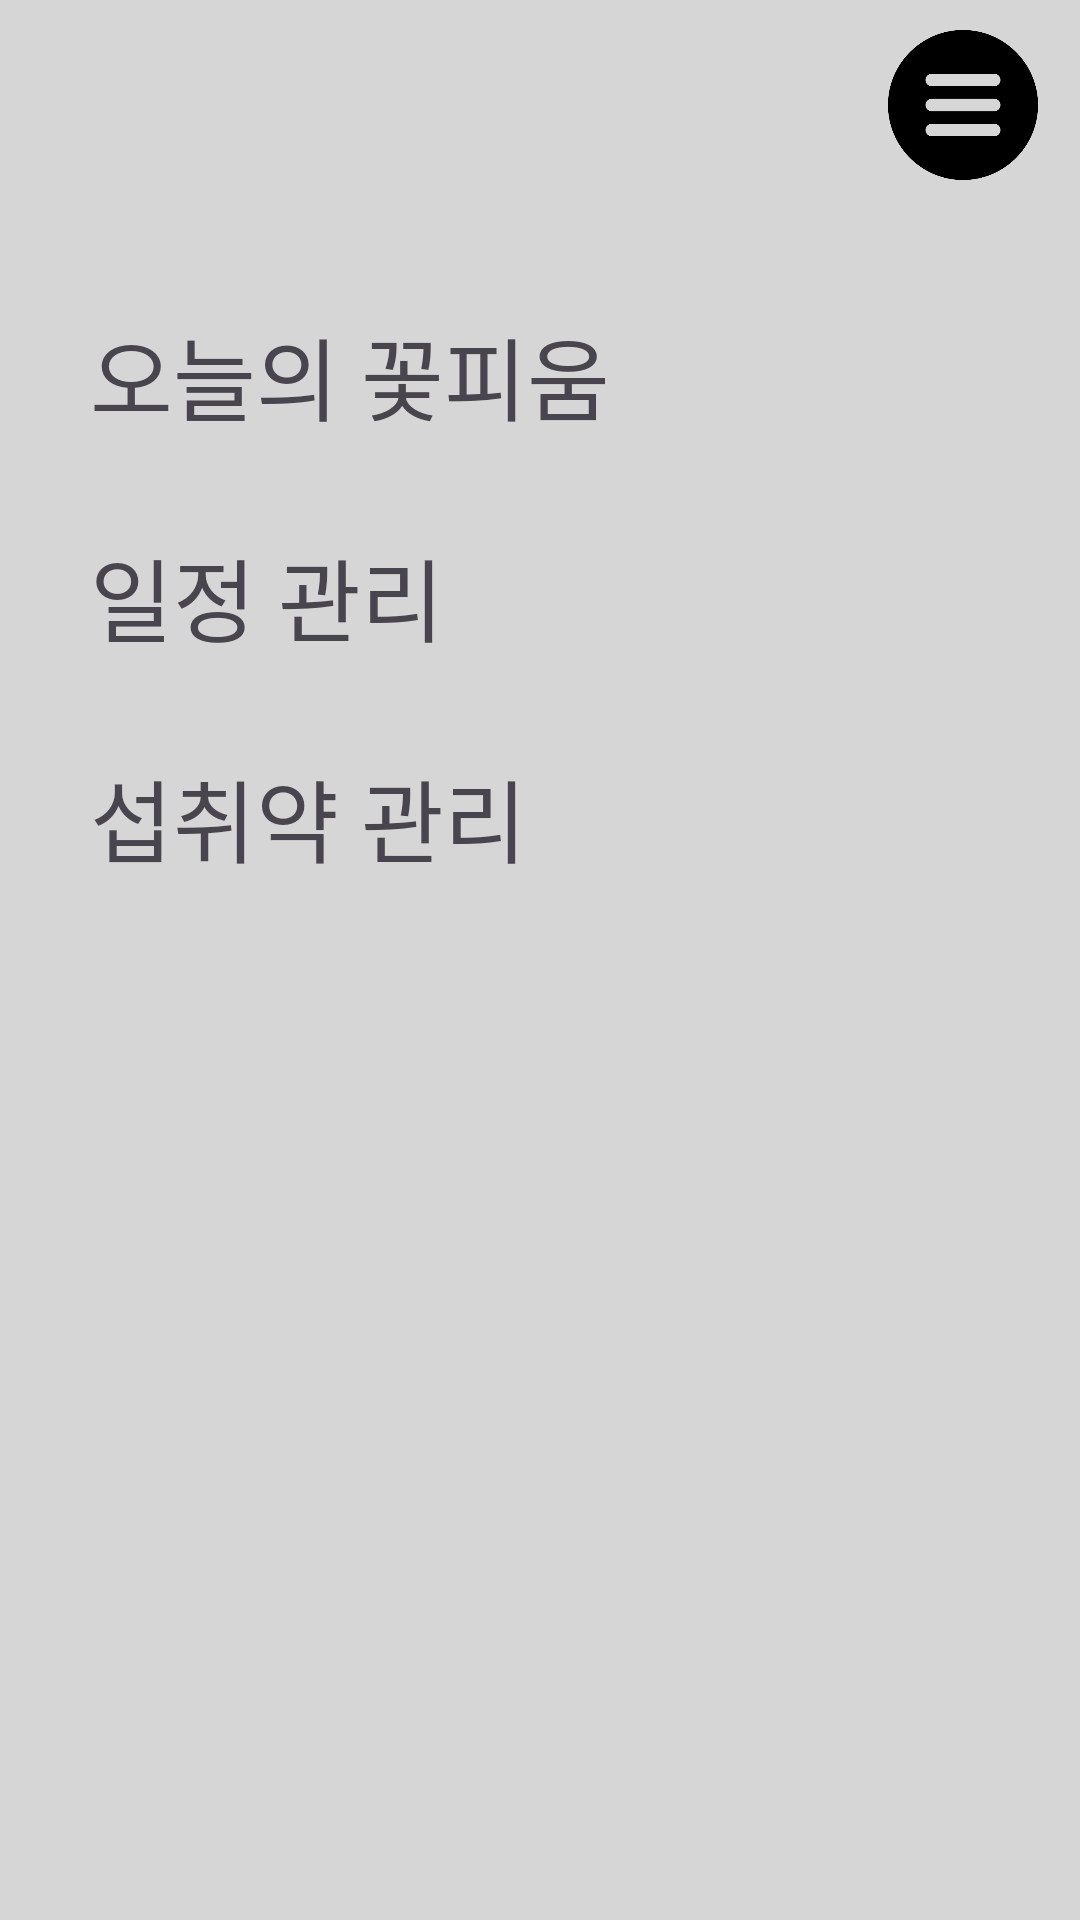

Locate icon controls on the screen. Image size 1080px×1920px, boxes as (x1,y1,x2,y2).
menu: (888,30,1038,180)
